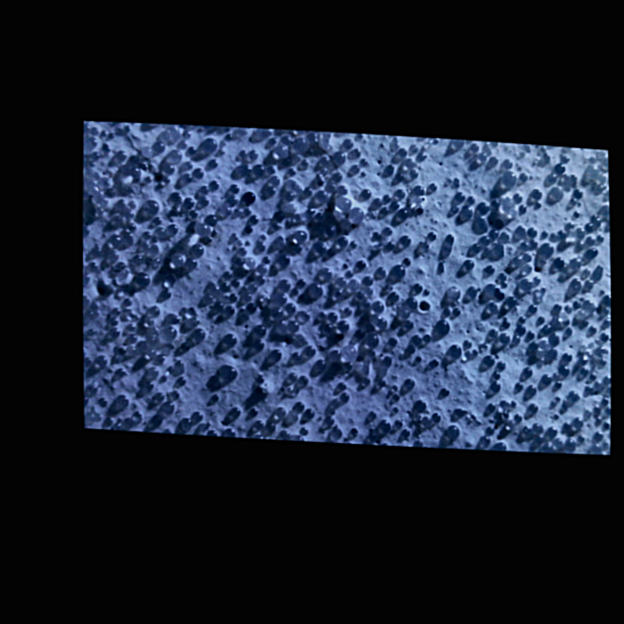GrassBeadSeg: (182, 127, 598, 438), (142, 144, 537, 431), (91, 132, 596, 355), (98, 154, 582, 373), (182, 159, 557, 434), (166, 176, 554, 436), (181, 176, 579, 425), (89, 125, 529, 337), (172, 203, 583, 426), (306, 131, 602, 437), (100, 141, 500, 367), (169, 147, 564, 375), (102, 184, 496, 410), (141, 140, 500, 376), (91, 147, 506, 347), (108, 168, 508, 374), (138, 223, 526, 434), (173, 180, 554, 389), (174, 158, 459, 435), (242, 162, 573, 397), (144, 174, 578, 347), (115, 143, 431, 374), (216, 179, 552, 392), (131, 220, 558, 386), (118, 145, 536, 312), (225, 193, 537, 416), (196, 208, 556, 398), (267, 135, 489, 432), (166, 151, 550, 321), (199, 172, 456, 422), (196, 192, 464, 420), (170, 164, 510, 343), (153, 242, 596, 378), (195, 210, 482, 418), (243, 205, 588, 373), (350, 146, 578, 397), (104, 154, 329, 405), (162, 197, 501, 360), (101, 156, 367, 363), (169, 183, 424, 396), (257, 138, 581, 305), (90, 197, 567, 310), (148, 228, 566, 355), (126, 158, 422, 330), (323, 194, 582, 388), (148, 175, 508, 313), (337, 184, 562, 404), (237, 245, 533, 412), (185, 144, 536, 284), (266, 276, 581, 430), (127, 129, 380, 320), (116, 148, 321, 369), (182, 171, 420, 360), (185, 263, 523, 390), (143, 189, 347, 388), (148, 309, 538, 410), (155, 148, 364, 336), (245, 178, 524, 311), (152, 139, 537, 235), (116, 285, 421, 404), (88, 259, 594, 330), (198, 194, 385, 385), (323, 253, 531, 423), (160, 287, 569, 373), (169, 189, 397, 342), (417, 150, 561, 386), (162, 161, 422, 291), (230, 134, 340, 434), (271, 169, 497, 315), (208, 156, 337, 409), (108, 239, 394, 353), (328, 152, 487, 357), (148, 176, 565, 254), (129, 154, 496, 242), (296, 277, 521, 419), (175, 183, 347, 368), (168, 222, 415, 350), (378, 141, 561, 310), (303, 230, 495, 390), (153, 203, 526, 285), (143, 313, 543, 387), (123, 161, 328, 305), (108, 232, 517, 303), (304, 332, 569, 437), (402, 186, 541, 385), (153, 147, 259, 400), (222, 269, 549, 350), (138, 170, 490, 242), (322, 189, 463, 367), (299, 206, 408, 434), (145, 197, 370, 307), (127, 222, 349, 329), (178, 252, 415, 352), (318, 265, 532, 374), (248, 188, 435, 312), (85, 135, 168, 410), (136, 186, 371, 283), (289, 312, 563, 395), (218, 238, 356, 398), (355, 258, 572, 359), (129, 155, 253, 330), (245, 142, 418, 267), (266, 163, 548, 235), (471, 241, 576, 430), (156, 209, 285, 361), (200, 243, 312, 417), (381, 237, 531, 364), (222, 243, 406, 343), (398, 146, 472, 393), (384, 161, 474, 359), (154, 224, 366, 307), (356, 147, 548, 238), (231, 229, 436, 312), (251, 305, 388, 429), (201, 136, 297, 312), (108, 224, 569, 260), (86, 235, 176, 419), (271, 173, 343, 400), (360, 265, 494, 386), (249, 170, 560, 221), (118, 337, 547, 373), (123, 307, 291, 397), (173, 239, 326, 337), (388, 225, 526, 331), (84, 123, 248, 212), (311, 281, 419, 416), (189, 241, 315, 353), (381, 161, 564, 235), (98, 150, 482, 184), (211, 173, 267, 399), (228, 272, 490, 320), (202, 181, 437, 234), (270, 169, 355, 315), (286, 170, 343, 387), (142, 189, 270, 285), (495, 316, 588, 447), (287, 165, 407, 265), (503, 169, 566, 358), (253, 221, 383, 311), (104, 130, 366, 174), (180, 374, 391, 428), (108, 294, 513, 322), (227, 189, 348, 278), (132, 338, 370, 383), (438, 260, 609, 322), (326, 235, 449, 321), (162, 137, 353, 192), (428, 274, 541, 366), (520, 144, 602, 268), (193, 295, 417, 340), (97, 205, 144, 416), (159, 291, 251, 398), (215, 299, 285, 438), (433, 136, 577, 203), (379, 313, 532, 375), (123, 230, 252, 300), (93, 256, 245, 313), (445, 204, 536, 299), (244, 149, 346, 232), (239, 164, 512, 195), (150, 292, 213, 424), (336, 199, 400, 327), (261, 170, 342, 271), (221, 126, 313, 212), (364, 330, 500, 388), (152, 214, 454, 240), (274, 142, 311, 354), (461, 192, 562, 267), (335, 159, 418, 248), (288, 277, 360, 379), (365, 314, 545, 354), (247, 231, 554, 254), (498, 236, 586, 316), (96, 385, 449, 404), (249, 309, 311, 414), (456, 153, 571, 209), (496, 170, 528, 367), (341, 262, 405, 359), (346, 408, 501, 448), (88, 274, 175, 345), (130, 164, 252, 214), (498, 308, 606, 364), (208, 178, 541, 196), (266, 184, 320, 295), (560, 162, 598, 319), (498, 224, 597, 284), (390, 390, 527, 433), (273, 170, 392, 219), (111, 305, 160, 424), (331, 334, 397, 422), (158, 216, 238, 288), (92, 149, 498, 163), (253, 319, 509, 341), (192, 165, 371, 196), (293, 271, 332, 410), (497, 204, 522, 420), (433, 236, 460, 435), (165, 288, 384, 312), (96, 352, 298, 378), (508, 157, 597, 214), (192, 303, 234, 420), (128, 329, 534, 340), (273, 233, 326, 317), (343, 360, 398, 439), (159, 323, 282, 357), (192, 291, 280, 338), (113, 327, 153, 430), (93, 307, 190, 349), (453, 200, 489, 312), (368, 233, 411, 326), (541, 151, 592, 229), (82, 394, 211, 424), (219, 253, 243, 414), (162, 162, 359, 181), (330, 246, 353, 407), (132, 207, 196, 263), (500, 397, 570, 448), (273, 147, 286, 414), (347, 205, 429, 247), (501, 306, 603, 339), (413, 331, 456, 409), (425, 295, 479, 356), (175, 374, 258, 413), (238, 138, 399, 158), (229, 389, 349, 415), (182, 301, 207, 424), (500, 229, 578, 267), (522, 153, 581, 203), (564, 221, 590, 332), (480, 419, 572, 450), (482, 142, 500, 300), (234, 183, 322, 215), (281, 349, 349, 389), (230, 182, 399, 198), (379, 155, 424, 214), (277, 265, 386, 289), (236, 238, 332, 265), (354, 414, 430, 446), (283, 252, 383, 276), (479, 413, 555, 442), (374, 316, 450, 344), (81, 223, 126, 269), (174, 132, 209, 191), (516, 330, 605, 353), (185, 239, 260, 266), (400, 187, 522, 203), (139, 122, 179, 170), (122, 123, 233, 140), (336, 234, 348, 389), (288, 133, 324, 184), (343, 263, 494, 275), (395, 136, 438, 178), (255, 177, 274, 272), (405, 250, 531, 264), (294, 135, 413, 149), (520, 263, 584, 289), (555, 303, 572, 399), (560, 262, 594, 309), (325, 181, 364, 221), (462, 337, 499, 379), (88, 309, 199, 323), (193, 280, 230, 322), (89, 359, 113, 423), (287, 180, 335, 212), (269, 342, 357, 359), (547, 171, 573, 228), (81, 231, 148, 253), (286, 289, 399, 302), (392, 417, 494, 431), (556, 214, 602, 244), (529, 339, 586, 362), (171, 252, 180, 396), (125, 162, 148, 217), (139, 372, 167, 416), (541, 321, 609, 339), (131, 354, 176, 380), (479, 288, 518, 318), (549, 254, 564, 331), (203, 213, 240, 243), (100, 128, 116, 197), (552, 371, 607, 391), (403, 287, 430, 326), (329, 261, 344, 328), (387, 288, 413, 326), (506, 313, 533, 349), (202, 192, 233, 222), (581, 309, 604, 347), (508, 429, 559, 446), (84, 345, 126, 365), (189, 162, 265, 173), (519, 187, 583, 200), (283, 425, 358, 436), (292, 228, 326, 252), (562, 154, 596, 178), (450, 201, 485, 224), (96, 193, 134, 214), (294, 157, 309, 210), (287, 178, 310, 211), (81, 271, 99, 313), (209, 204, 228, 242), (428, 405, 464, 423), (594, 344, 611, 382), (478, 223, 498, 255), (162, 399, 186, 425), (511, 238, 535, 264), (276, 252, 288, 303), (322, 310, 351, 330), (341, 289, 364, 314), (588, 378, 608, 404), (281, 133, 301, 158), (467, 285, 504, 298), (509, 397, 569, 405), (530, 230, 558, 247), (575, 232, 604, 248), (501, 318, 521, 341), (325, 246, 348, 266), (87, 181, 116, 196), (574, 226, 585, 265), (211, 284, 228, 309), (501, 398, 517, 424), (582, 399, 605, 415), (541, 435, 563, 451), (364, 282, 392, 294), (563, 432, 584, 446), (502, 422, 531, 432), (583, 349, 602, 364), (489, 217, 503, 237), (581, 266, 594, 287), (584, 414, 610, 424), (253, 417, 276, 428), (354, 285, 373, 298), (582, 440, 604, 451), (117, 343, 137, 355), (486, 279, 507, 290), (447, 341, 462, 355), (147, 324, 158, 343), (601, 419, 609, 445), (579, 233, 593, 247), (86, 300, 98, 316), (518, 255, 530, 271), (549, 398, 559, 416), (602, 305, 611, 324), (591, 171, 607, 181), (560, 172, 577, 181), (501, 156, 512, 168), (446, 176, 452, 182)
